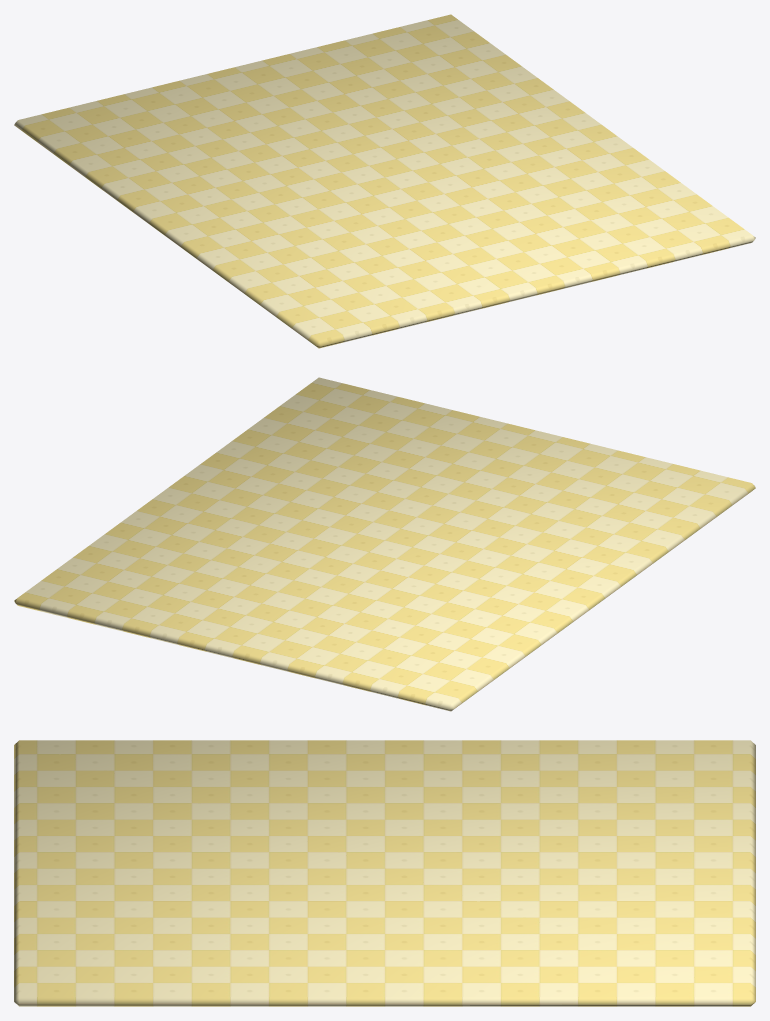
The model's file is w2_01_tabletop.glb.
3 views of the same model, one above another, from view 1: azimuth 30°, elevation 25°; view 2: azimuth 150°, elevation 25°; view 3: azimuth 270°, elevation 25° (orthographic). The views are drawn at different scales.
Visible parts, largest first — view 1: W2_01_Playmat; view 2: W2_01_Playmat; view 3: W2_01_Playmat.
Part boxes in pixels (bbox=[...]): W2_01_Playmat: bbox=[14, 14, 755, 348]; W2_01_Playmat: bbox=[14, 377, 755, 711]; W2_01_Playmat: bbox=[14, 740, 755, 1006].
Size of the model in its own units: 20 by 0.35 by 24.
1 material, 1 textured.
